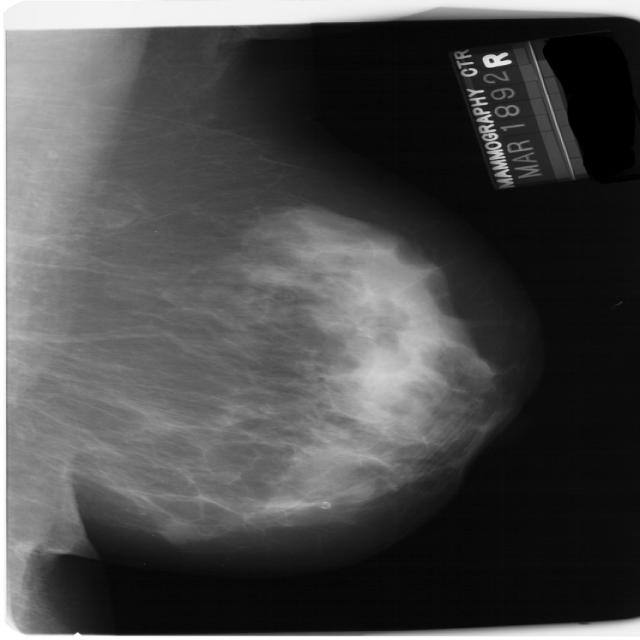tumour: (159, 516, 204, 544)
